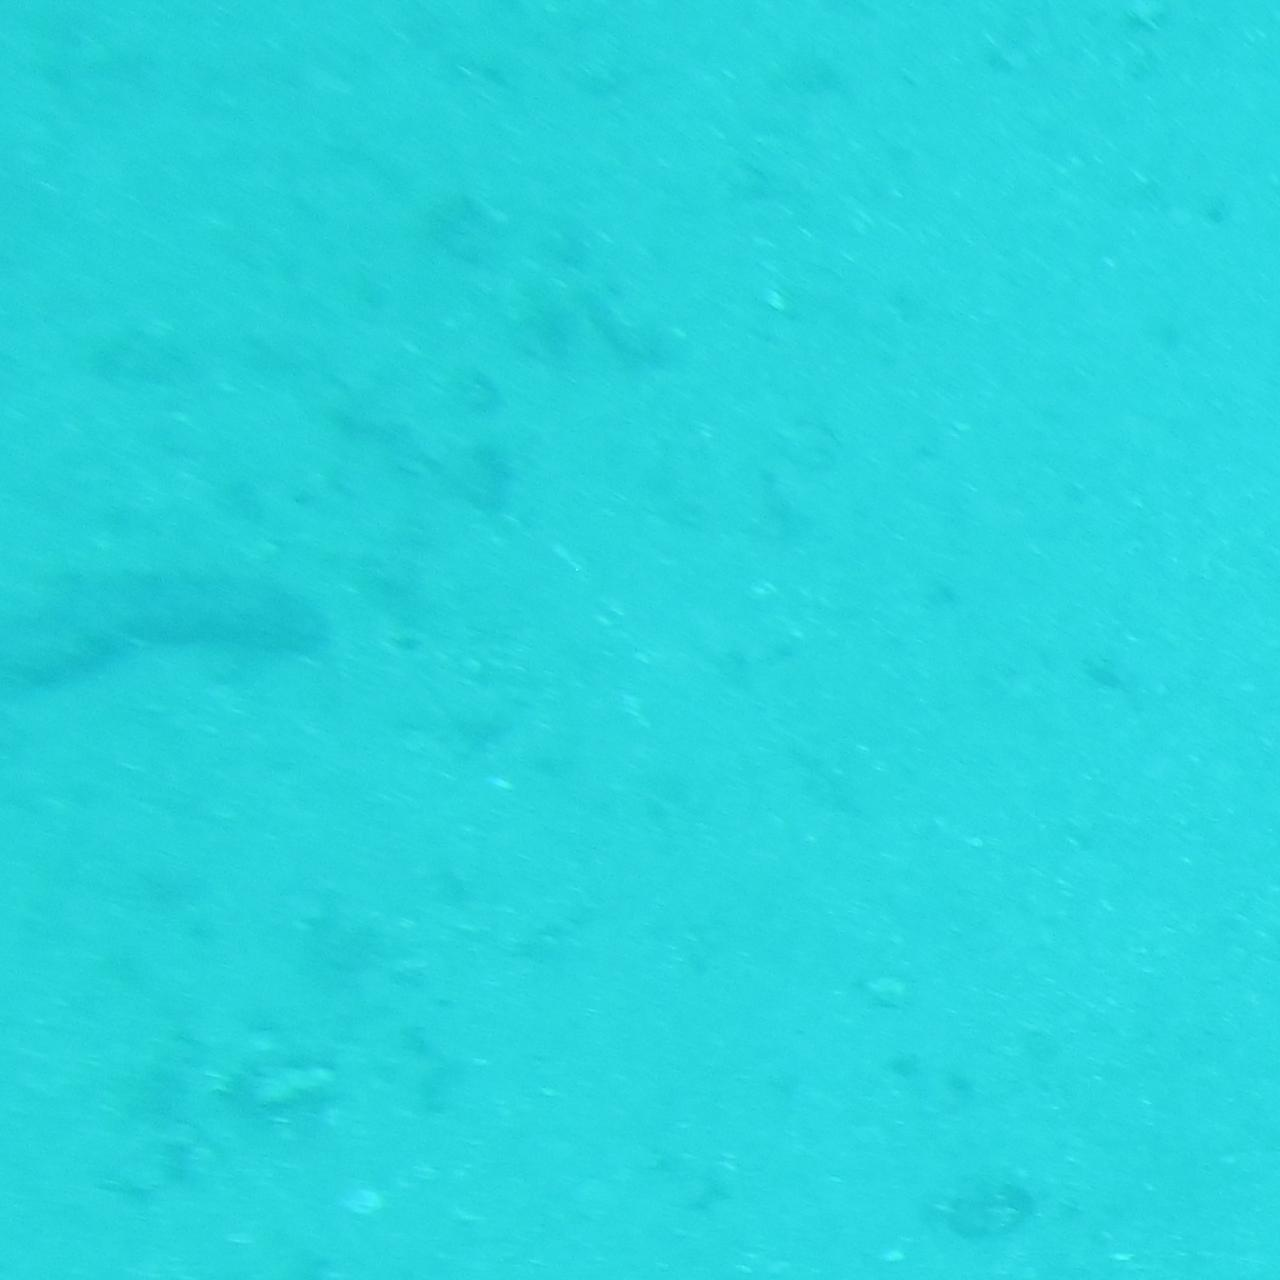Holothuria tubulosa: (0, 565, 340, 715)
